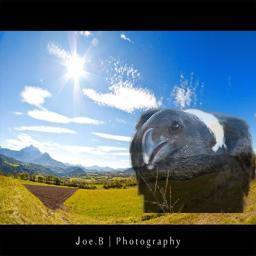Crow: (129, 107, 255, 213)
